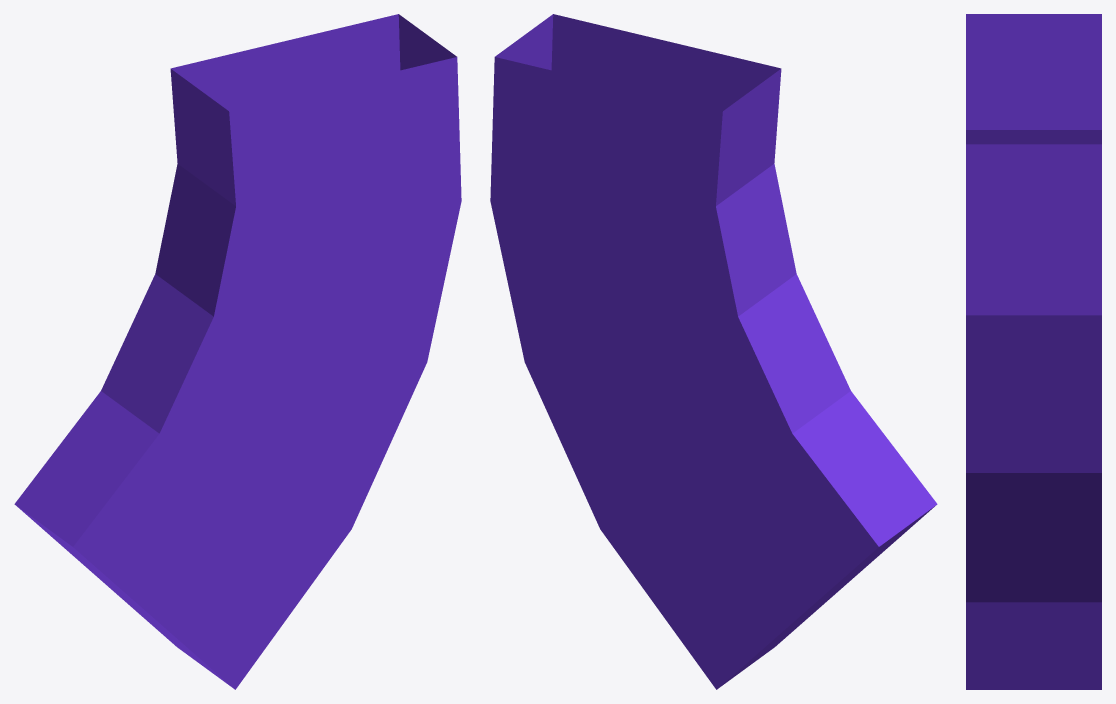
Rendered from magazine_01.fbx.
The picture shows the model from 3 angles, left to right: view 1: azimuth 30°, elevation 25°; view 2: azimuth 150°, elevation 25°; view 3: azimuth 270°, elevation 25°; orthographic projection. The views are drawn at different scales.
Parts seen in each view (by area): view 1: clip_2; view 2: clip_2; view 3: clip_2.
Boxes of the visible parts, x1,y1,x2,y2 form: clip_2: (14,14,461,689); clip_2: (490,14,937,689); clip_2: (966,14,1101,689).
Size of the model in its own units: 345 by 492 by 90.11.
